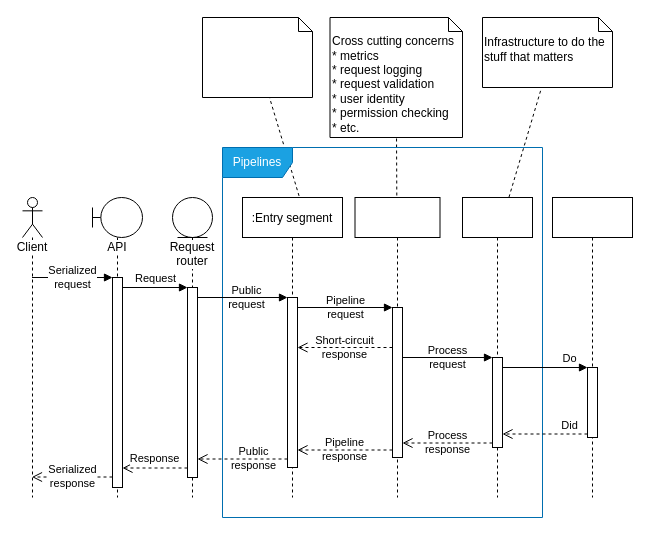
Image size: 650x535. Some labels were removed from this diagram. Each missing label, with the centre of its shape:
":Process" belongs at (x=497, y=347).
":Segment" belongs at (x=397, y=347).
":The stuff that matters" belongs at (x=592, y=347).
"Map data transfer objects to internal request objects" belongs at (x=257, y=57).
